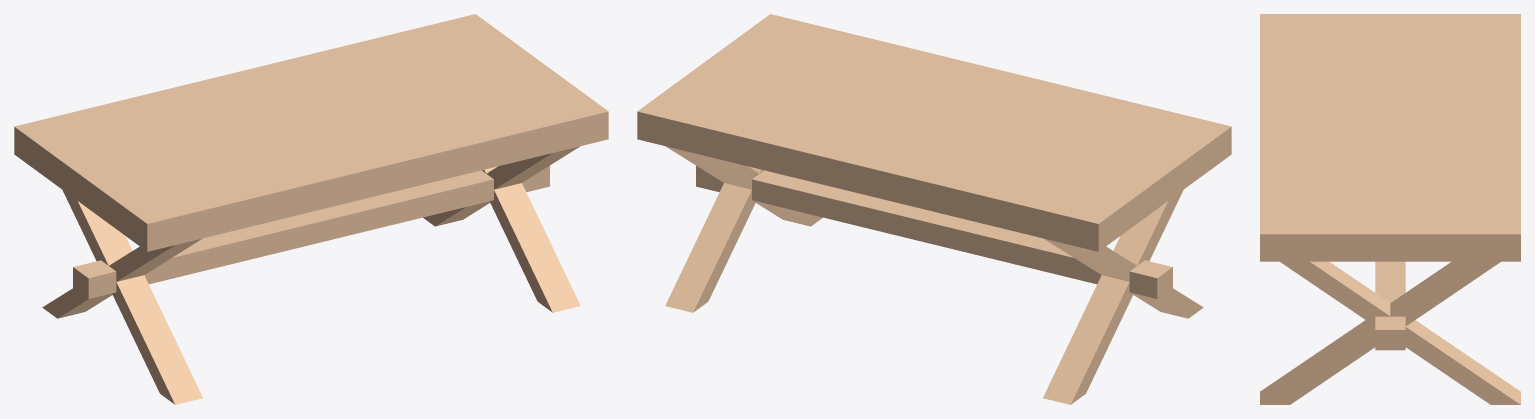
File: tableCross-col.glb
3 views of the same model, side by side, from view 1: azimuth 30°, elevation 25°; view 2: azimuth 150°, elevation 25°; view 3: azimuth 270°, elevation 25° (orthographic). The views are drawn at different scales.
Visible parts, largest first — view 1: tableCross-col; view 2: tableCross-col; view 3: tableCross-col.
Part boxes in pixels (<box>): tableCross-col: <box>14,14,608,404</box>; tableCross-col: <box>637,14,1231,404</box>; tableCross-col: <box>1260,14,1520,404</box>.
Size of the model in its own units: 0.9 by 0.35 by 0.45.
